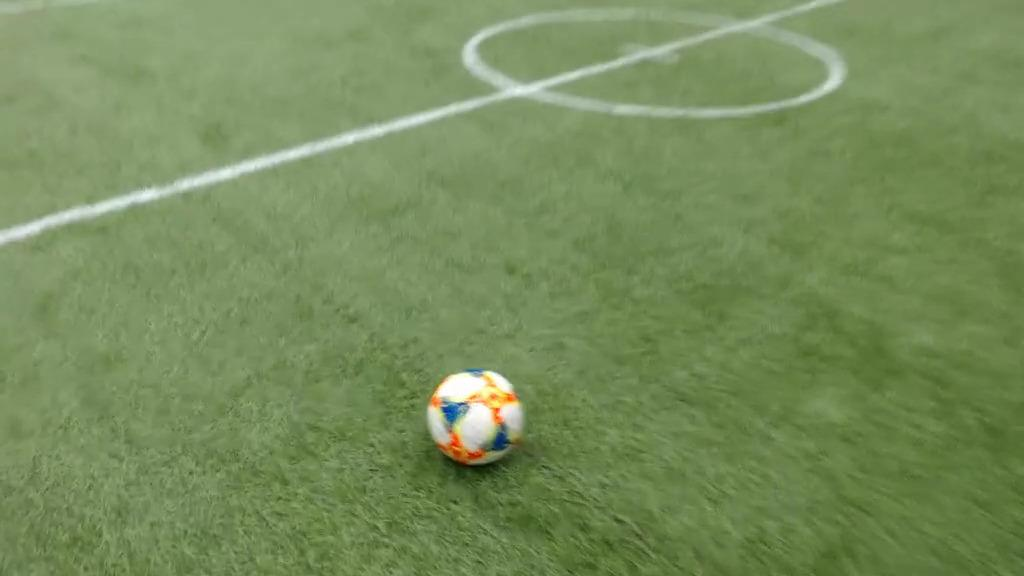ball: (431, 369, 521, 462)
